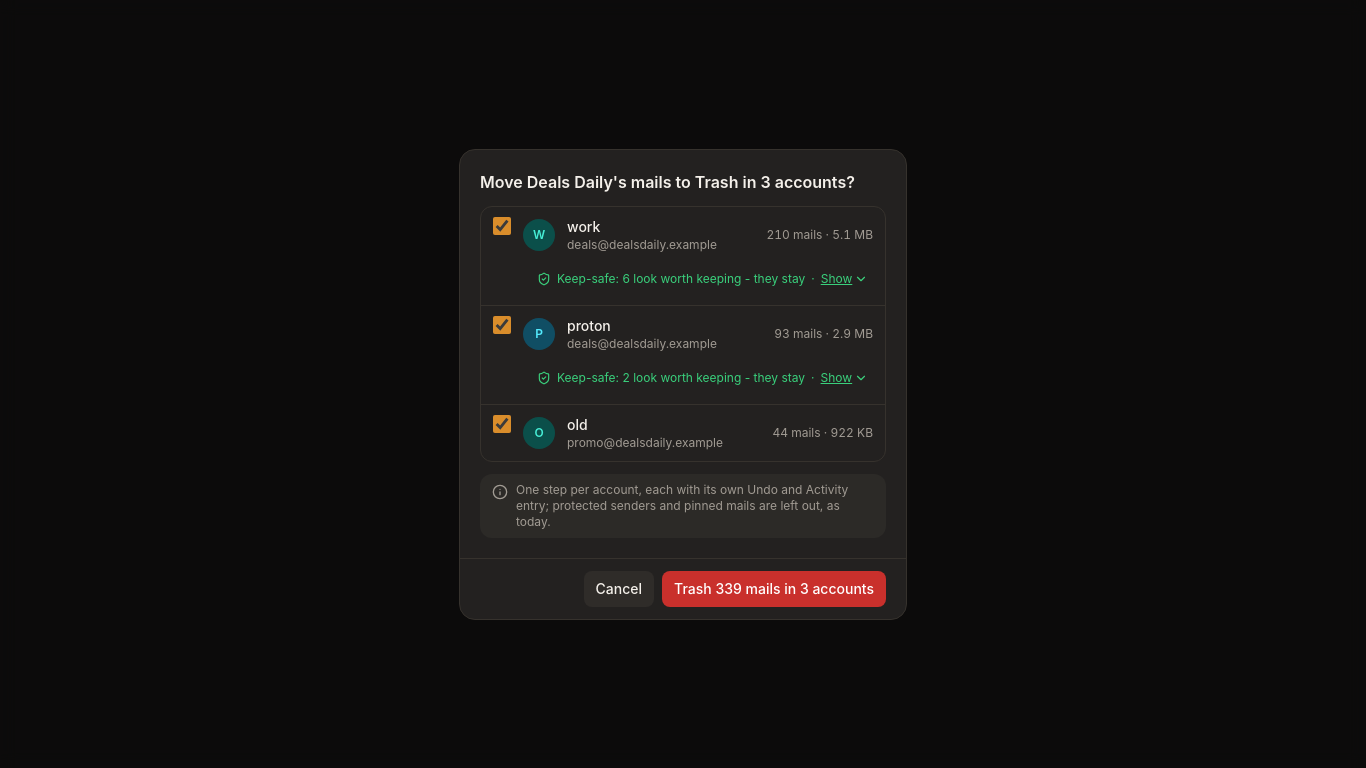
Test case: a protection that failed claims nothing: no step ran
Expected: the text "Keep-safe: 6 look worth keeping - they stay" is shown, [557,270,805,286]
Click the button "Trash 339 mails in 3 accounts" at (774, 588), box [662,570,886,606]
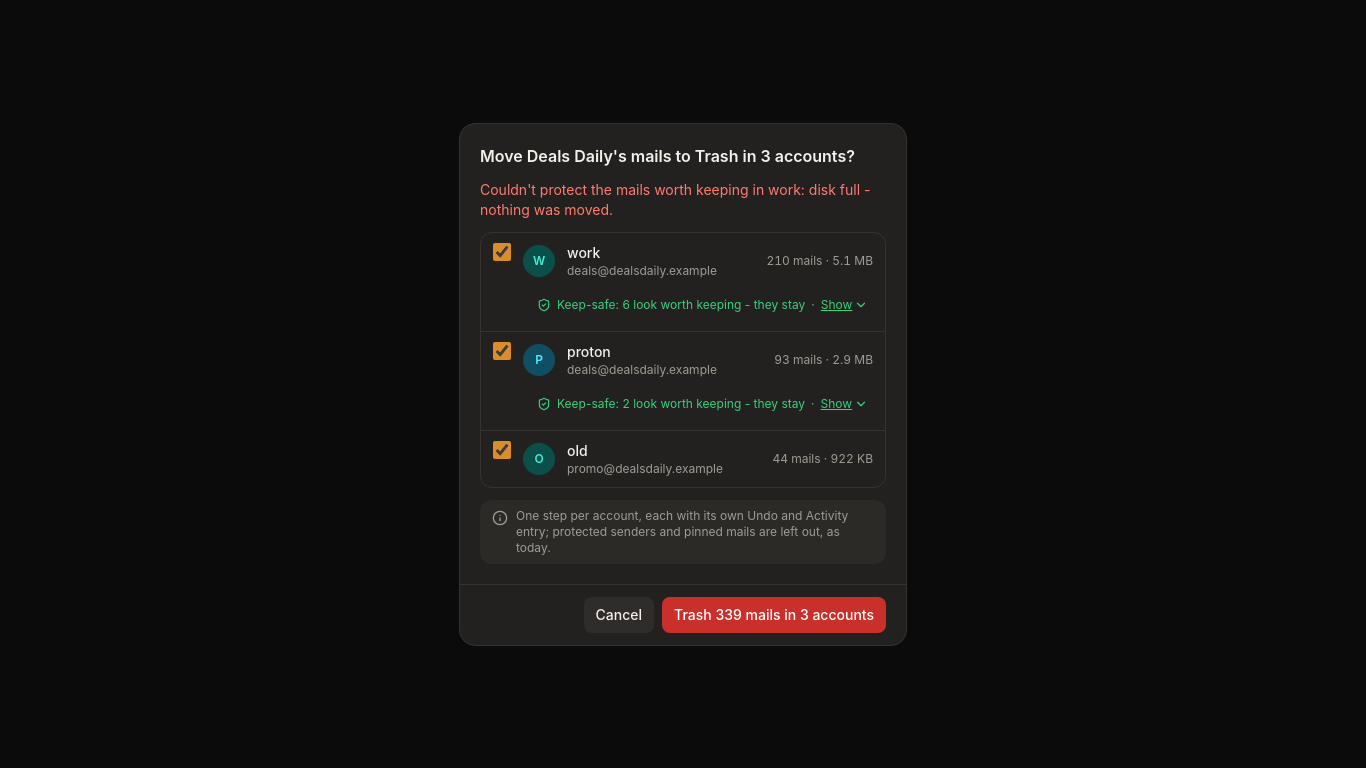
Expected: the text "nothing was moved." is shown, [480,180,870,218]
